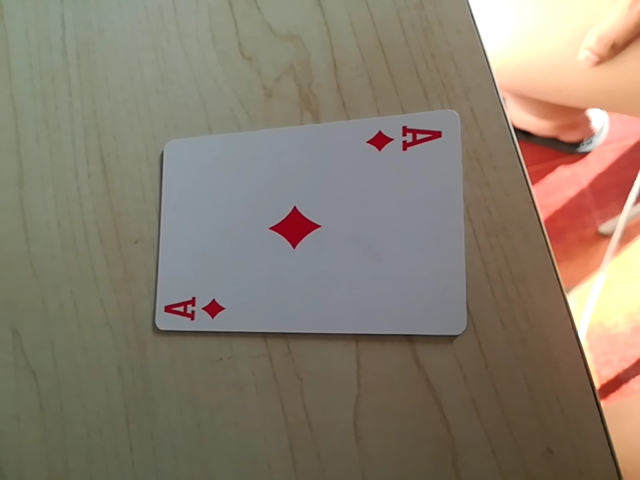fk a: (363, 122, 444, 157), (159, 292, 228, 326)
